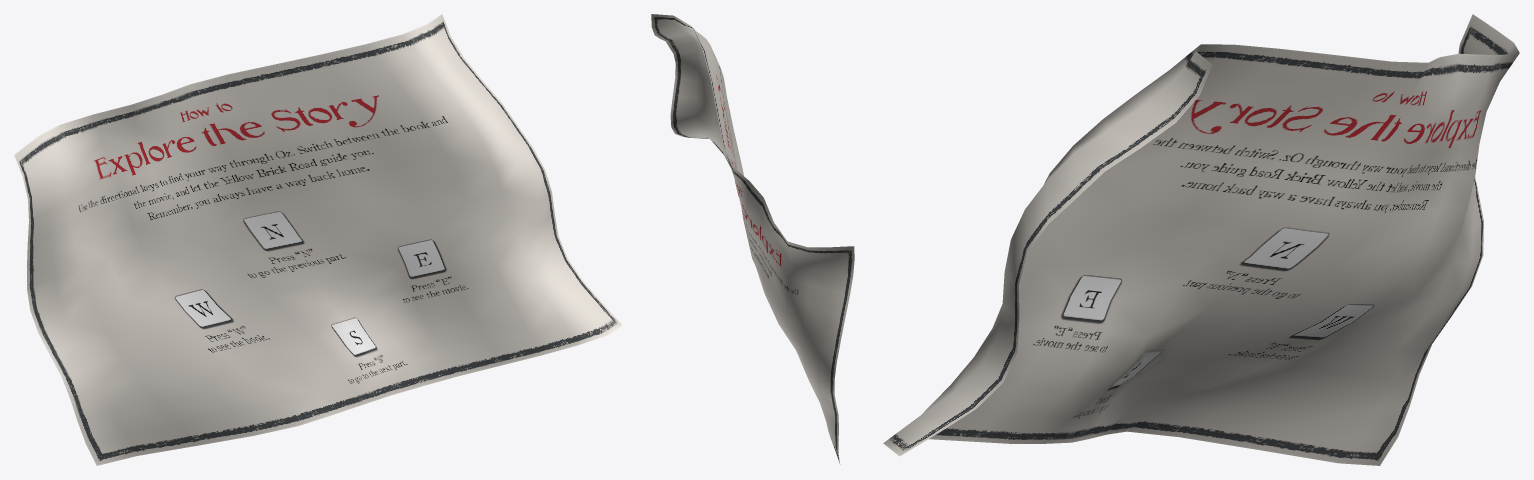
File: Instrucoesv2.glb
3 renders of one model, left to right at view 1: azimuth 30°, elevation 25°; view 2: azimuth 150°, elevation 25°; view 3: azimuth 270°, elevation 25°, orthographic. The views are drawn at different scales.
Parts seen in each view (by area): view 1: About.001; view 2: About.001; view 3: About.001.
Boxes of the visible parts, x1,y1,x2,y2 form: About.001: [14, 14, 622, 465]; About.001: [651, 14, 854, 464]; About.001: [883, 14, 1519, 465].
Bounding box in the file's own units: 0.1116 × 0.1124 × 0.1088.
1 material, 1 textured.
